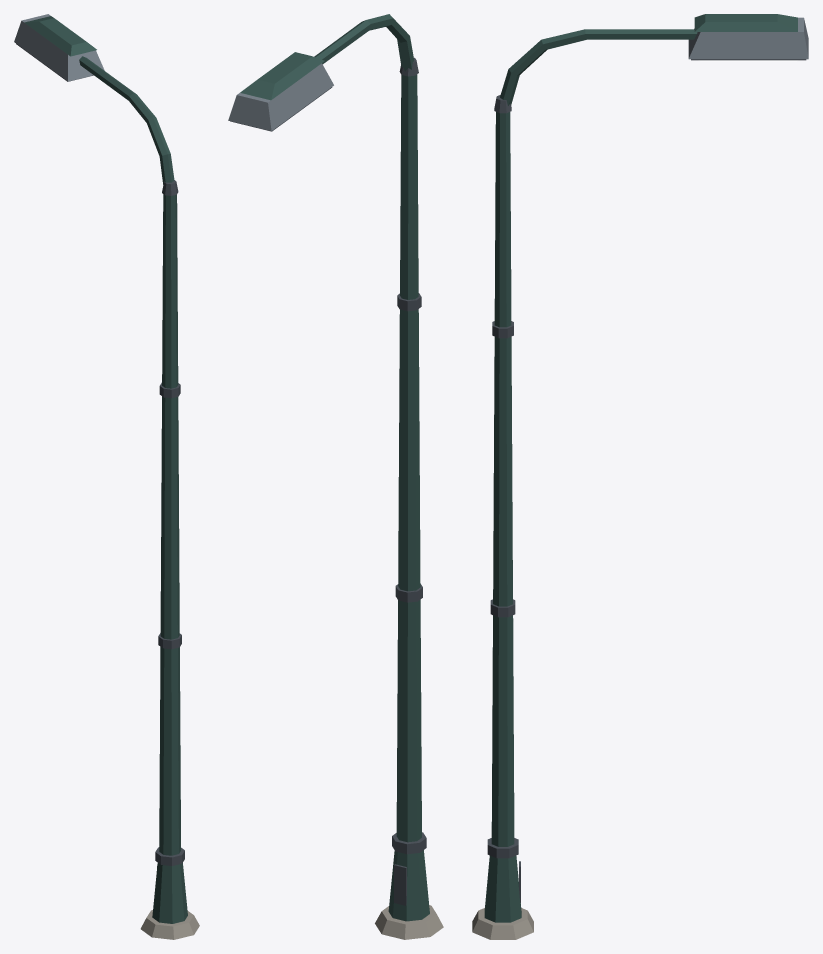
Rendered from street_lamp.glb.
3 views of the same model, side by side, from view 1: azimuth 30°, elevation 25°; view 2: azimuth 150°, elevation 25°; view 3: azimuth 270°, elevation 25° (orthographic). The views are drawn at different scales.
Visible parts, largest first — view 1: Body; view 2: Body; view 3: Body.
Boxes of the visible parts, x1,y1,x2,y2 form: Body: (14,14,199,939); Body: (228,14,443,939); Body: (472,14,808,939).
Size of the model in its own units: 0.4619 by 7.51 by 2.52.
